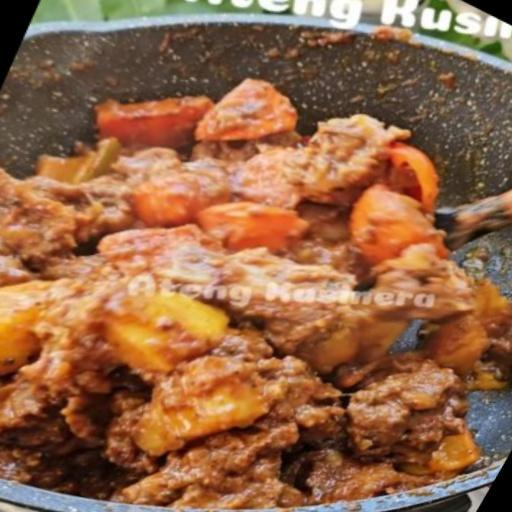pork caldereta: (0, 88, 506, 503)
